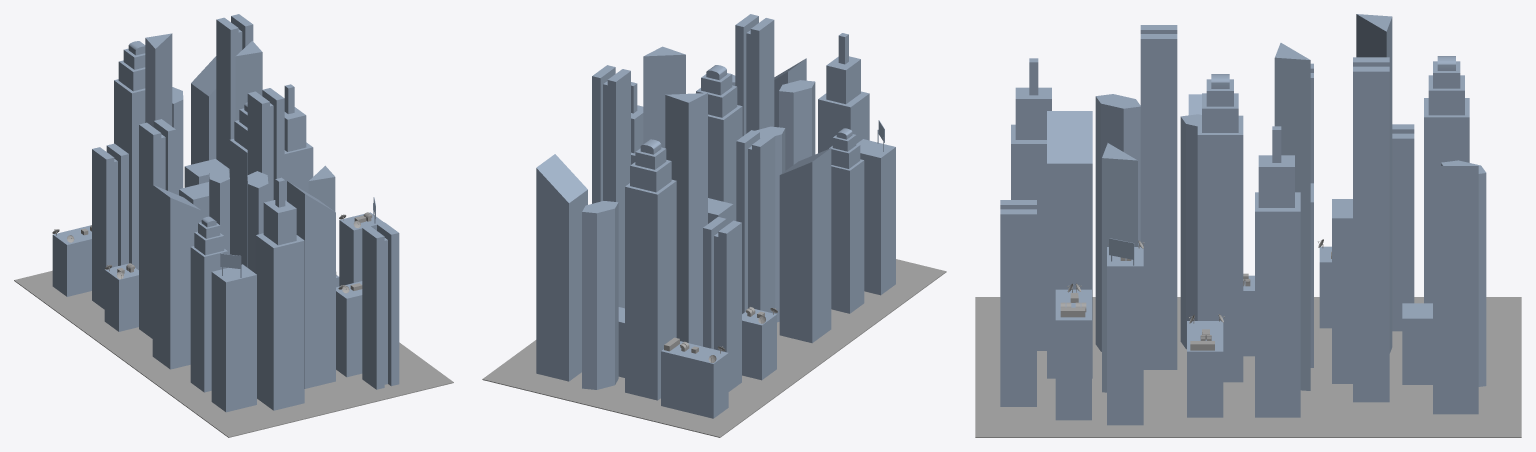
Rendered from utopian_city_mod_adj.fbx.
The picture shows the model from 3 angles, left to right: view 1: azimuth 30°, elevation 25°; view 2: azimuth 150°, elevation 25°; view 3: azimuth 270°, elevation 25°; orthographic projection. The views are drawn at different scales.
Visible parts, largest first — view 1: tall2_building (×3), sidewalk11, tall_building (×3), med_building, plain_build (×3), sanwich_building2, sanwich_building4, trianagle_building (×3), small_building (×2), sanwich_building, building (×3), sanwich_building3 (+6 smaller); view 2: tall2_building (×3), tall_building (×3), sidewalk11, trianagle_building (×2), building (×3), sanwich_building, sanwich_building1, sanwich_building4, plain_build (×2), small_building, sanwich_building3, square_building (×2) (+4 smaller); view 3: sidewalk11, tall2_building (×2), tall_building (×2), trianagle_building (×3), sanwich_building1, sanwich_building3, building (×3), med_building3, small_building (×2), sanwich_building2, plain_build4, plain_build (×2) (+6 smaller).
Boxes of the visible parts, x1,y1,x2,y2 form: tall2_building (×3): (152,56,335,388); sidewalk11: (14,270,453,437); tall_building (×3): (114,79,247,392); med_building: (255,233,304,410); plain_build (×3): (179,159,256,412); sanwich_building2: (362,222,399,389); sanwich_building4: (92,143,128,309); trianagle_building (×3): (145,33,335,211); small_building (×2): (52,225,362,377); sanwich_building: (139,119,175,338); building (×3): (172,87,268,273); sanwich_building3: (247,88,284,201); tall2_building (×3): (536,58,831,381); tall_building (×3): (625,105,864,400); sidewalk11: (482,259,946,437); trianagle_building (×2): (643,46,707,346); building (×3): (582,80,815,389); sanwich_building: (736,130,775,313); sanwich_building1: (592,65,630,308); sanwich_building4: (703,217,741,391); plain_build (×2): (708,139,895,295); small_building: (661,341,728,418); sanwich_building3: (735,14,774,135); square_building (×2): (618,307,776,380); sidewalk11: (975,297,1521,437); tall2_building (×2): (1047,111,1478,414); tall_building (×2): (1197,98,1469,382); trianagle_building (×3): (1102,14,1392,392); sanwich_building1: (1353,57,1389,402); sanwich_building3: (1140,25,1177,369); building (×3): (1095,94,1486,386); med_building3: (1255,192,1300,417); small_building (×2): (1055,289,1223,420); sanwich_building2: (1000,200,1036,406); plain_build4: (1107,247,1143,425); plain_build (×2): (1310,183,1352,383).
Size of the model in its own units: 36.25 by 40.43 by 59.82.
